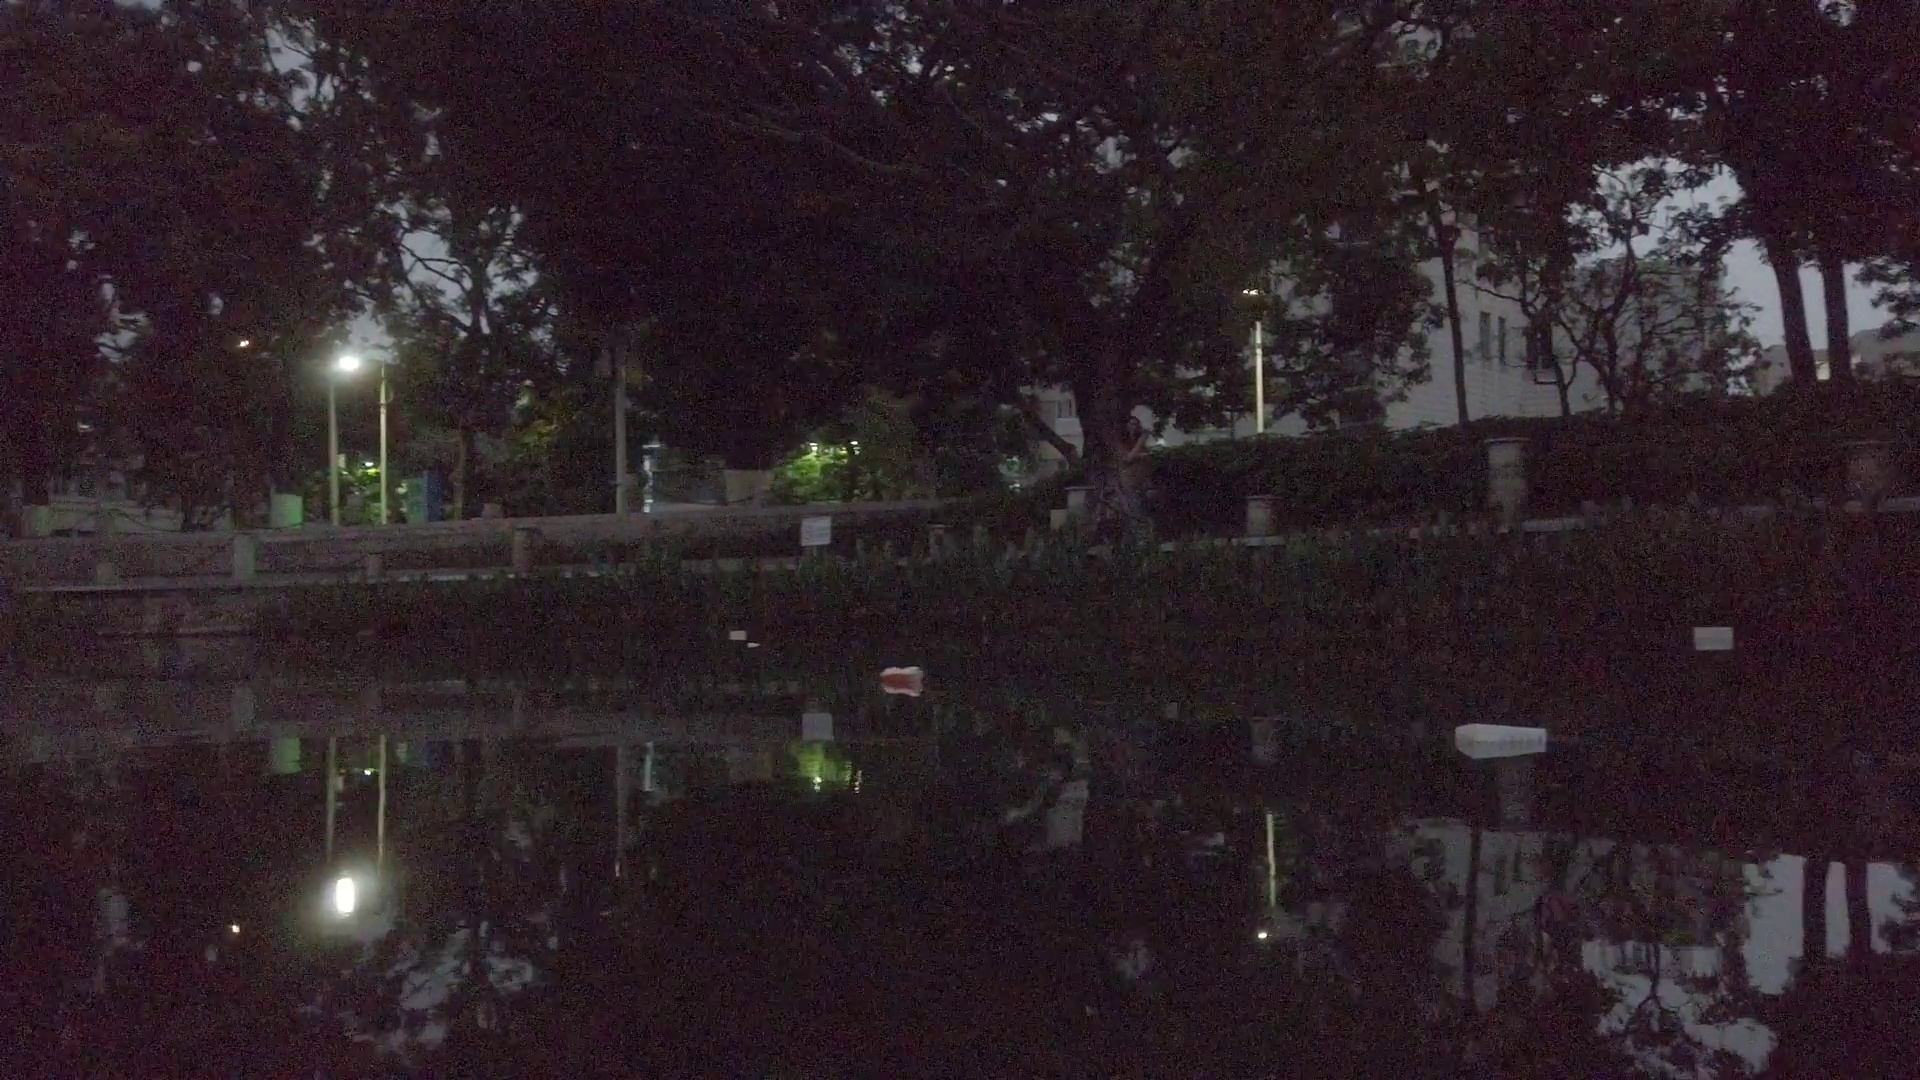bottle: (881, 665, 926, 686)
carton: (1451, 717, 1549, 758), (1693, 622, 1735, 645), (728, 626, 746, 640)
paper: (742, 640, 760, 647)
